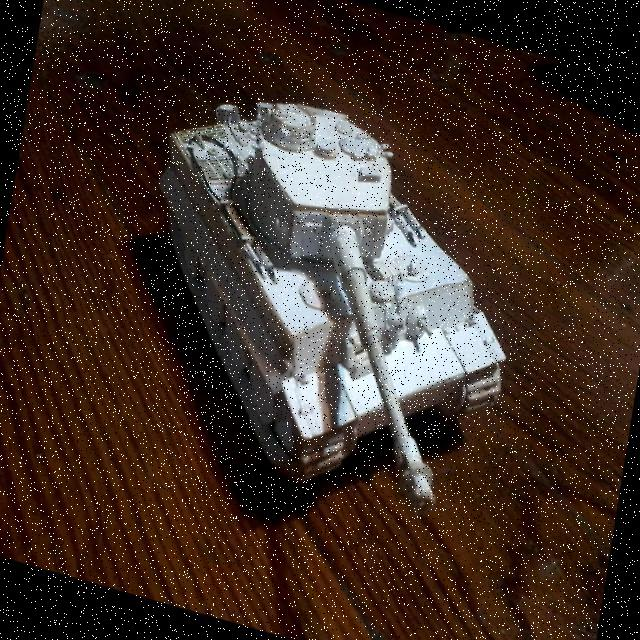MIL_MBT: (158, 98, 502, 524)
